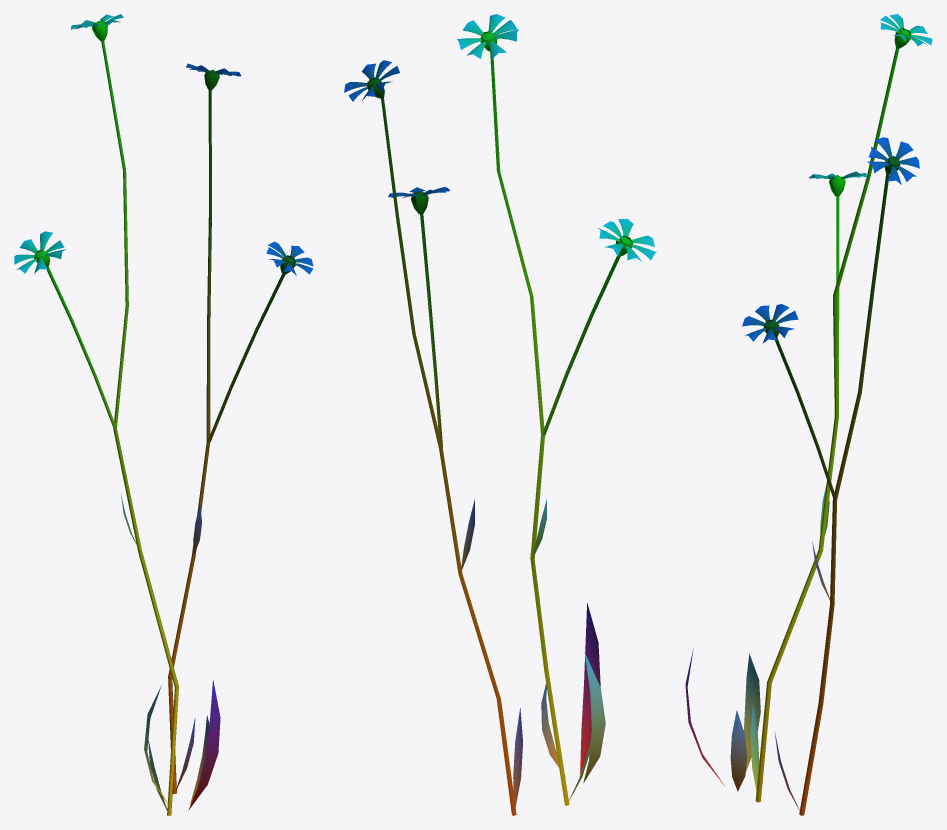
Rendered from SM_Flower_Cornflower_A_LOD1.fbx.
The picture shows the model from 3 angles, left to right: view 1: azimuth 30°, elevation 25°; view 2: azimuth 150°, elevation 25°; view 3: azimuth 270°, elevation 25°; orthographic projection. The views are drawn at different scales.
Visible parts, largest first — view 1: SM_Flower_Cornflower_A_LOD1; view 2: SM_Flower_Cornflower_A_LOD1; view 3: SM_Flower_Cornflower_A_LOD1.
Part boxes in pixels (x1=…): SM_Flower_Cornflower_A_LOD1: x1=14, y1=14, x2=313, y2=815; SM_Flower_Cornflower_A_LOD1: x1=344, y1=14, x2=656, y2=815; SM_Flower_Cornflower_A_LOD1: x1=685, y1=14, x2=932, y2=815.
Size of the model in its own units: 0.2157 by 0.5901 by 0.1692.
